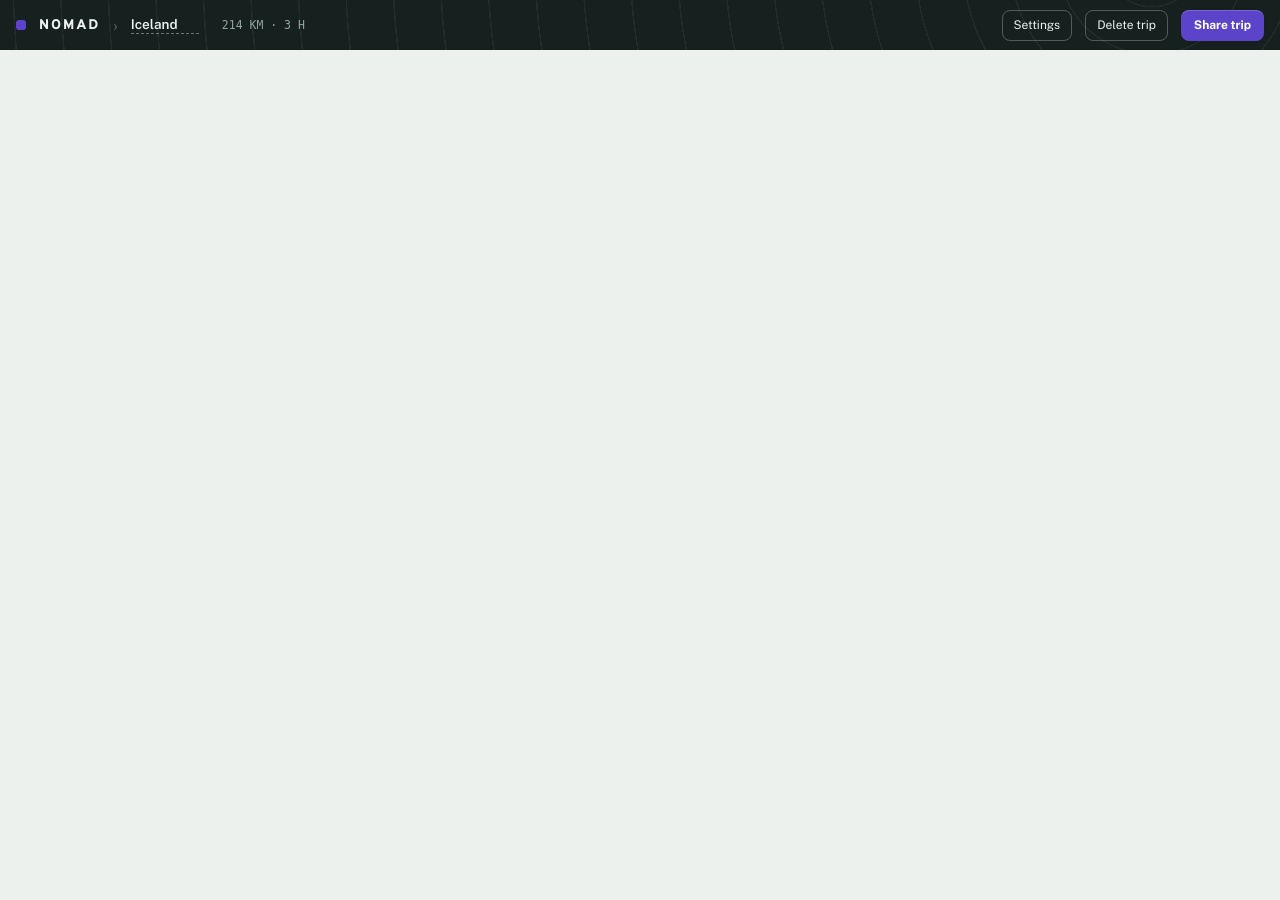
TopBar › cancel closes without deleting or navigating
Click the button "Delete trip".
click(1127, 25)  # box [1085,10,1168,40]
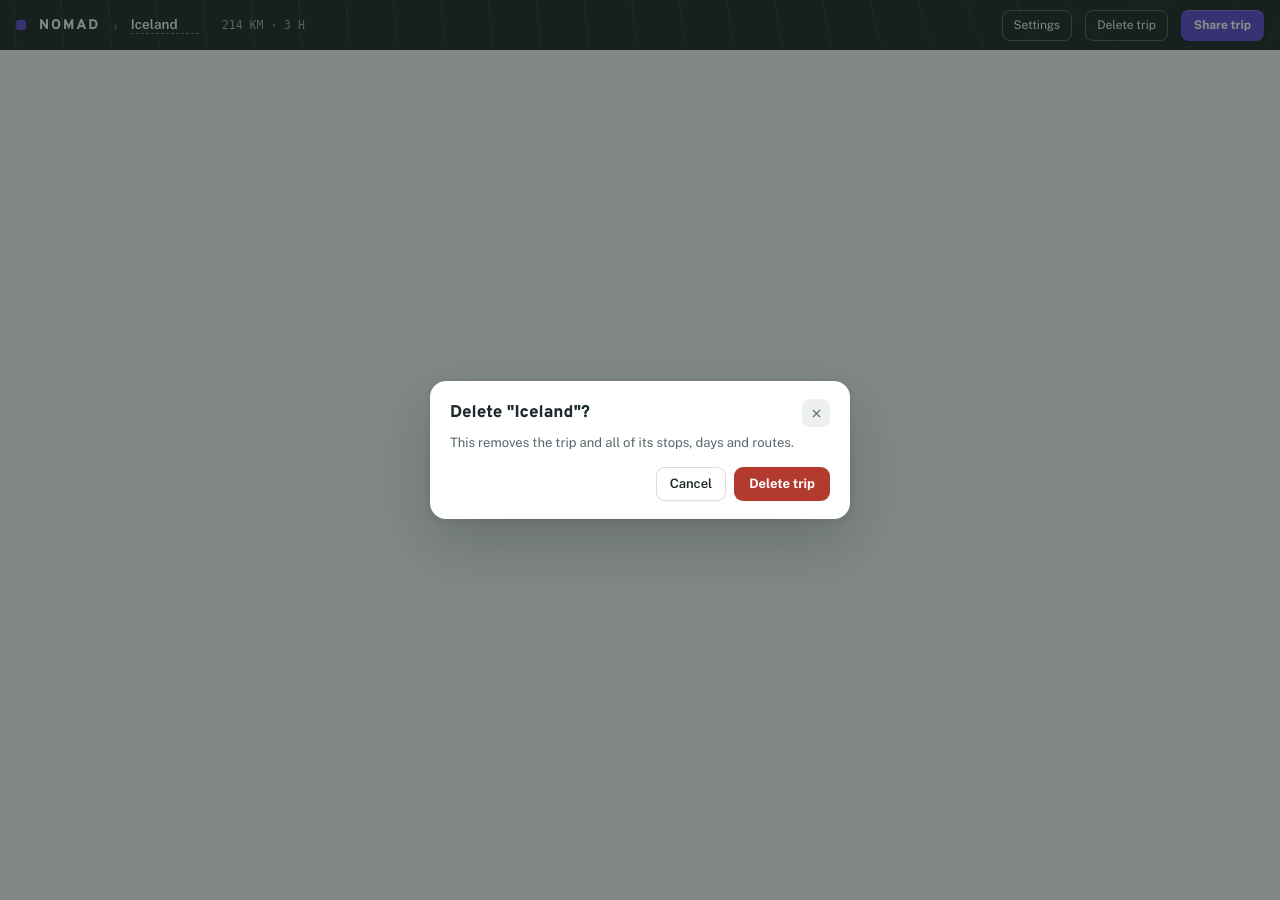
Click the button "Cancel".
click(691, 484)  # box [656,467,726,501]
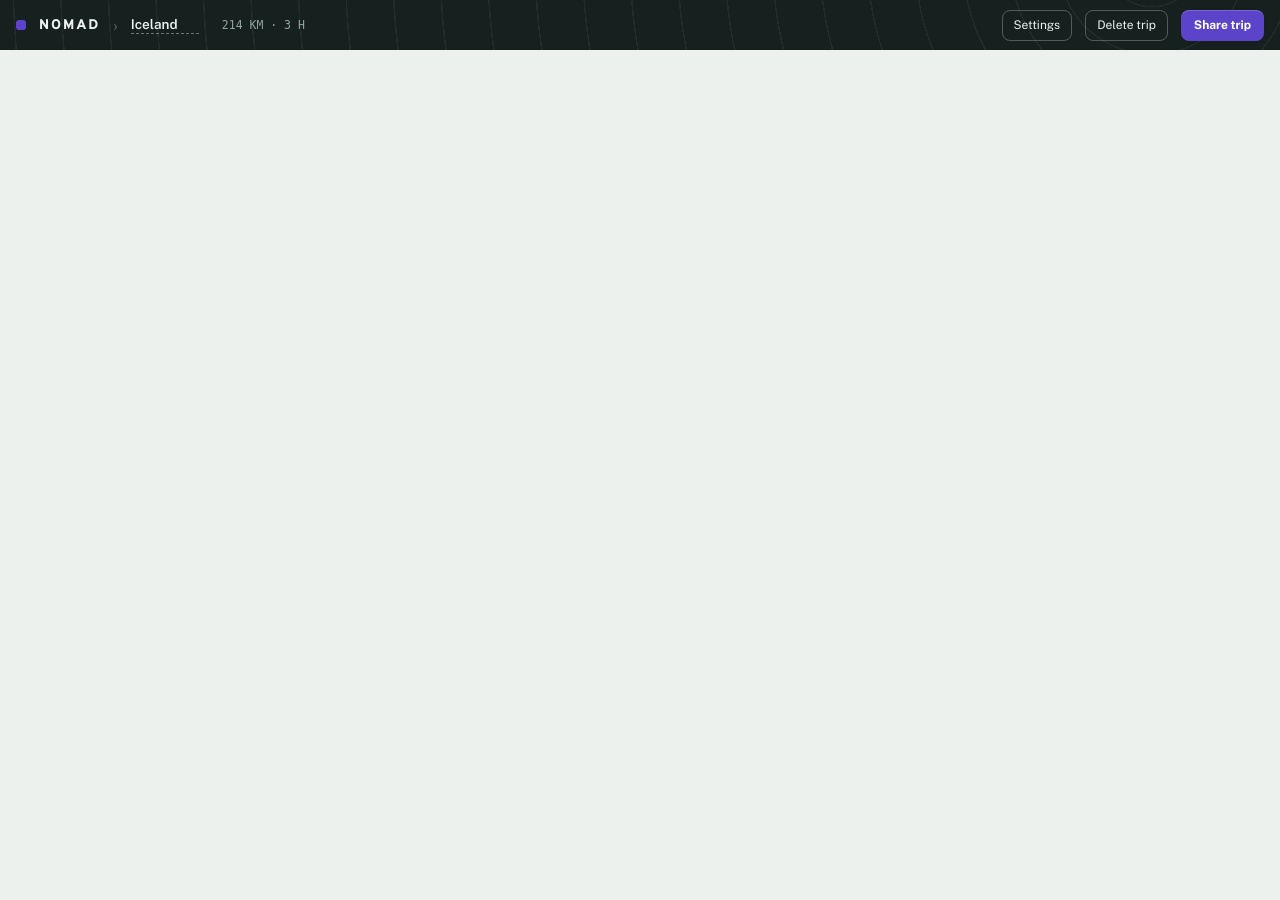
Expected: the dialog is gone
